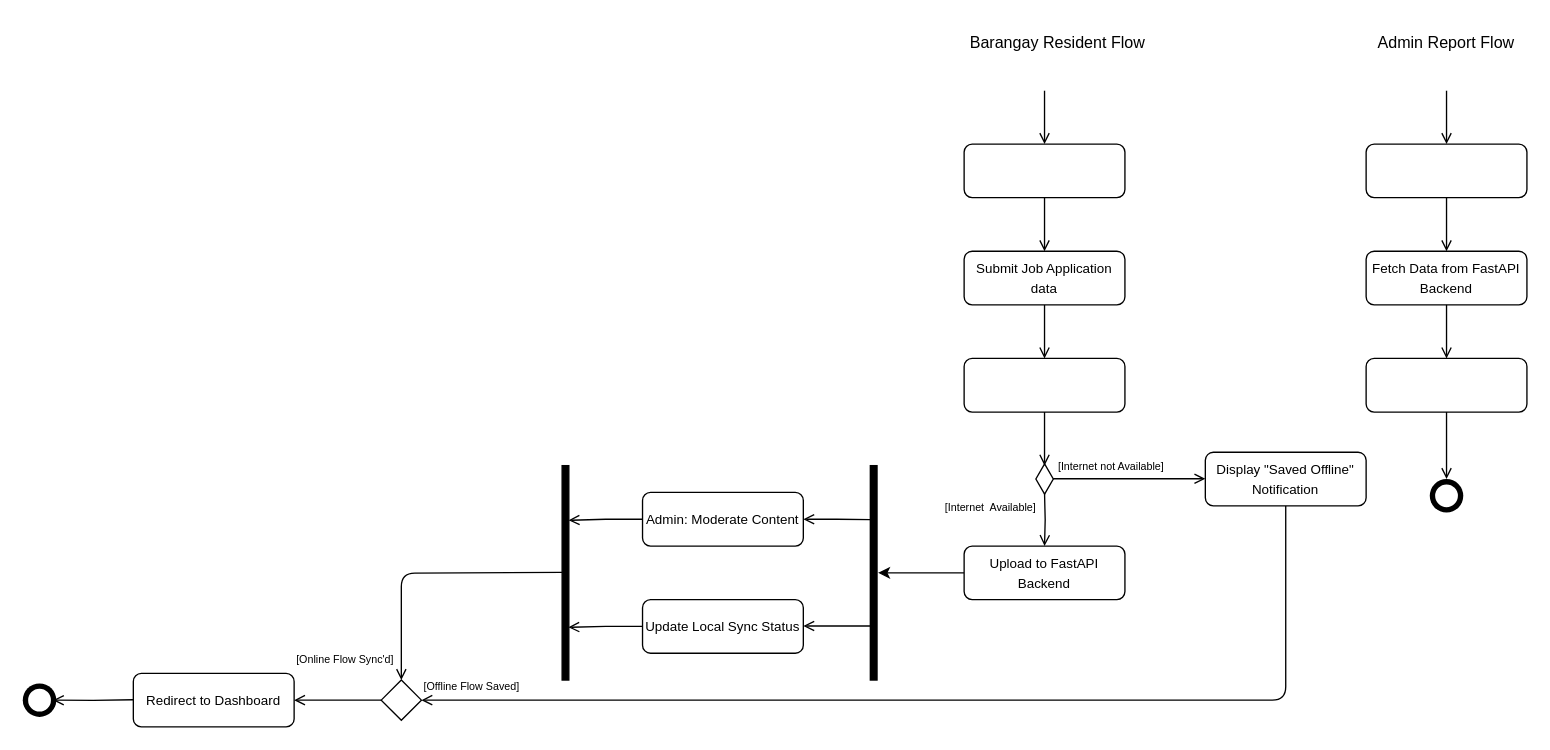
Some shapes in this 1550 by 750 pixel diagram are drawn without their labels. Each missing label, with the box of its shape:
Admin Selects Report Type: (1365, 143, 1527, 198)
Generate System Reports: (1365, 357, 1527, 412)
Input Transaction Details: (963, 143, 1125, 198)
Save to Local SQLite DB: (963, 357, 1125, 412)
